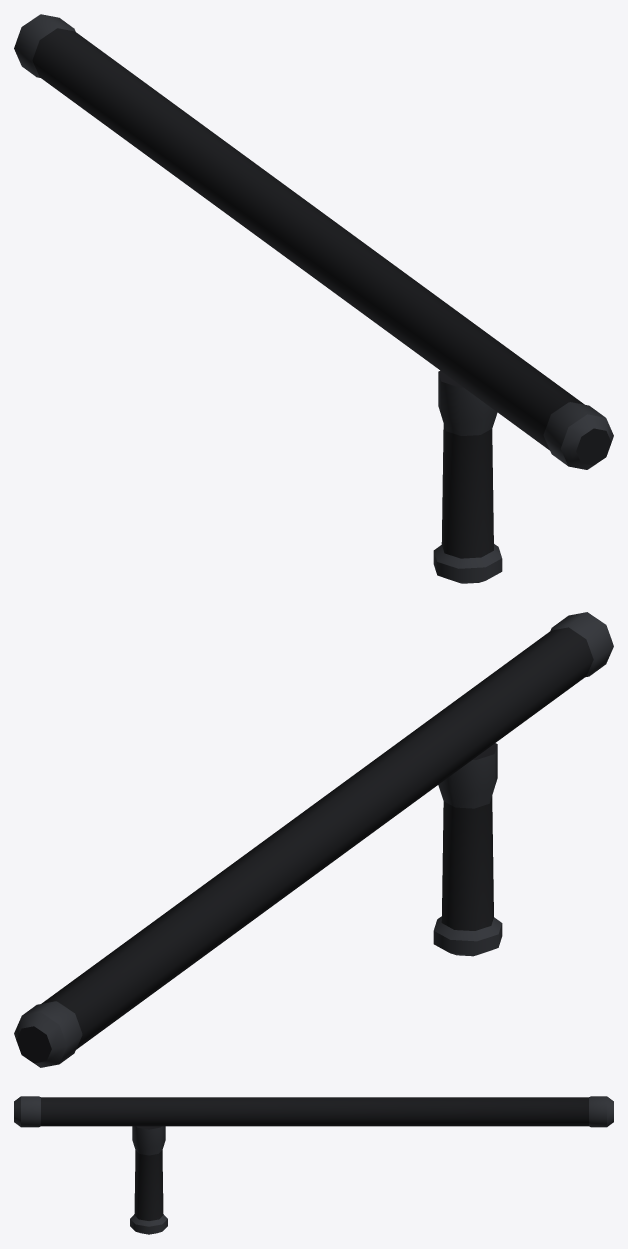
The model's file is nightstick.glb.
The picture shows the model from 3 angles, top to bottom: view 1: azimuth 30°, elevation 25°; view 2: azimuth 150°, elevation 25°; view 3: azimuth 270°, elevation 25°; orthographic projection. The views are drawn at different scales.
Parts seen in each view (by area): view 1: nightstick__body; view 2: nightstick__body; view 3: nightstick__body.
Part boxes in pixels (bbox=[...]): nightstick__body: bbox=[14, 14, 613, 583]; nightstick__body: bbox=[14, 612, 613, 1067]; nightstick__body: bbox=[14, 1096, 613, 1234].
Bounding box in the file's own units: 0.038 × 0.1465 × 0.6.
1 material, 1 textured.
